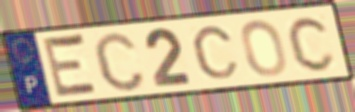2: (144, 25, 194, 90)
C: (90, 29, 148, 94), (286, 14, 338, 74), (190, 24, 242, 81)
E: (41, 32, 102, 101)
O: (239, 18, 289, 79)
